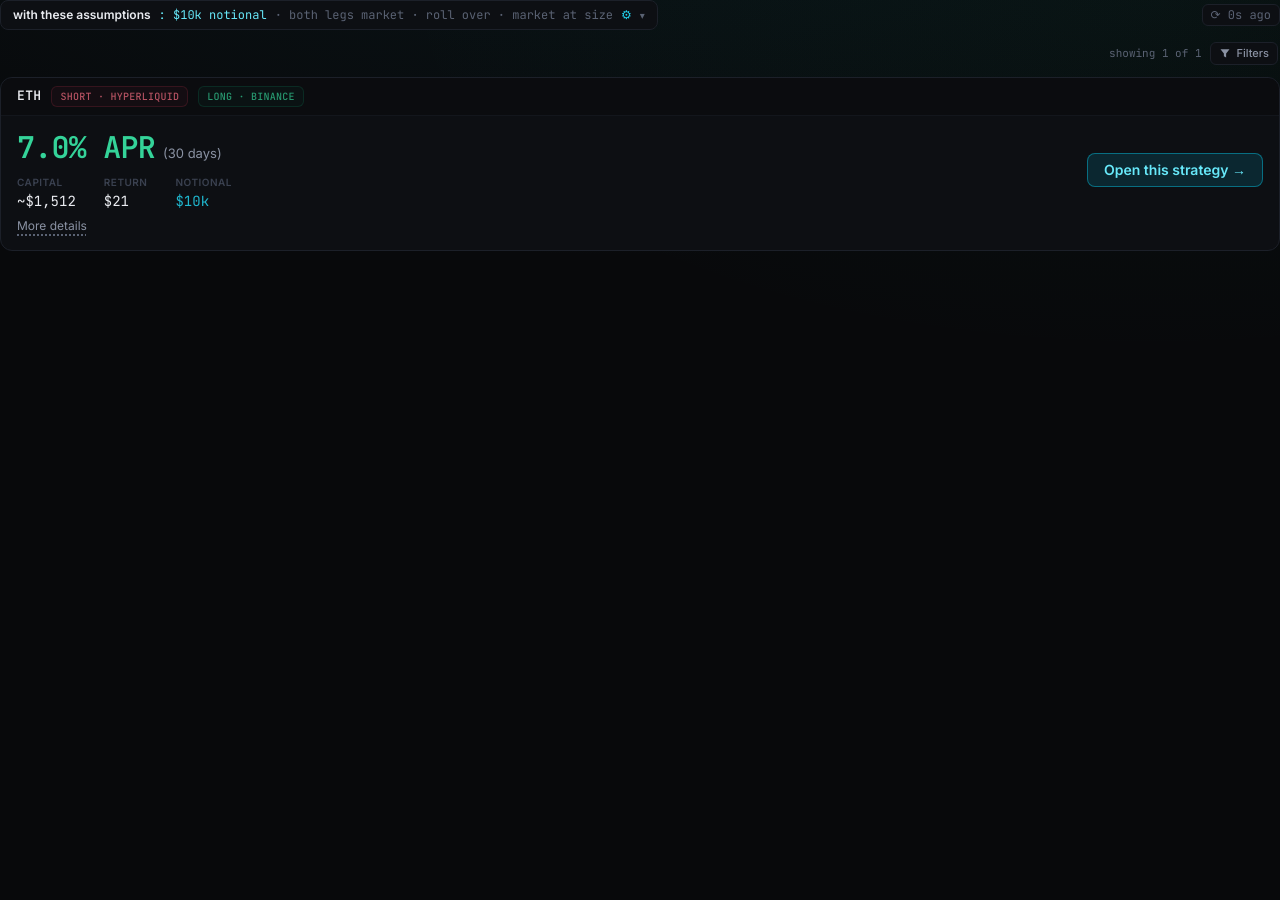
OpportunitiesPanel — collapse › drops the exit bars and notes the roll under "Roll over"
This screenshot has width=1280, height=900.
Expected: the number of buttons "More details" is 1, [17, 218, 87, 234]
Click the button "with these assumptions" at (329, 15), box [0, 0, 658, 30]
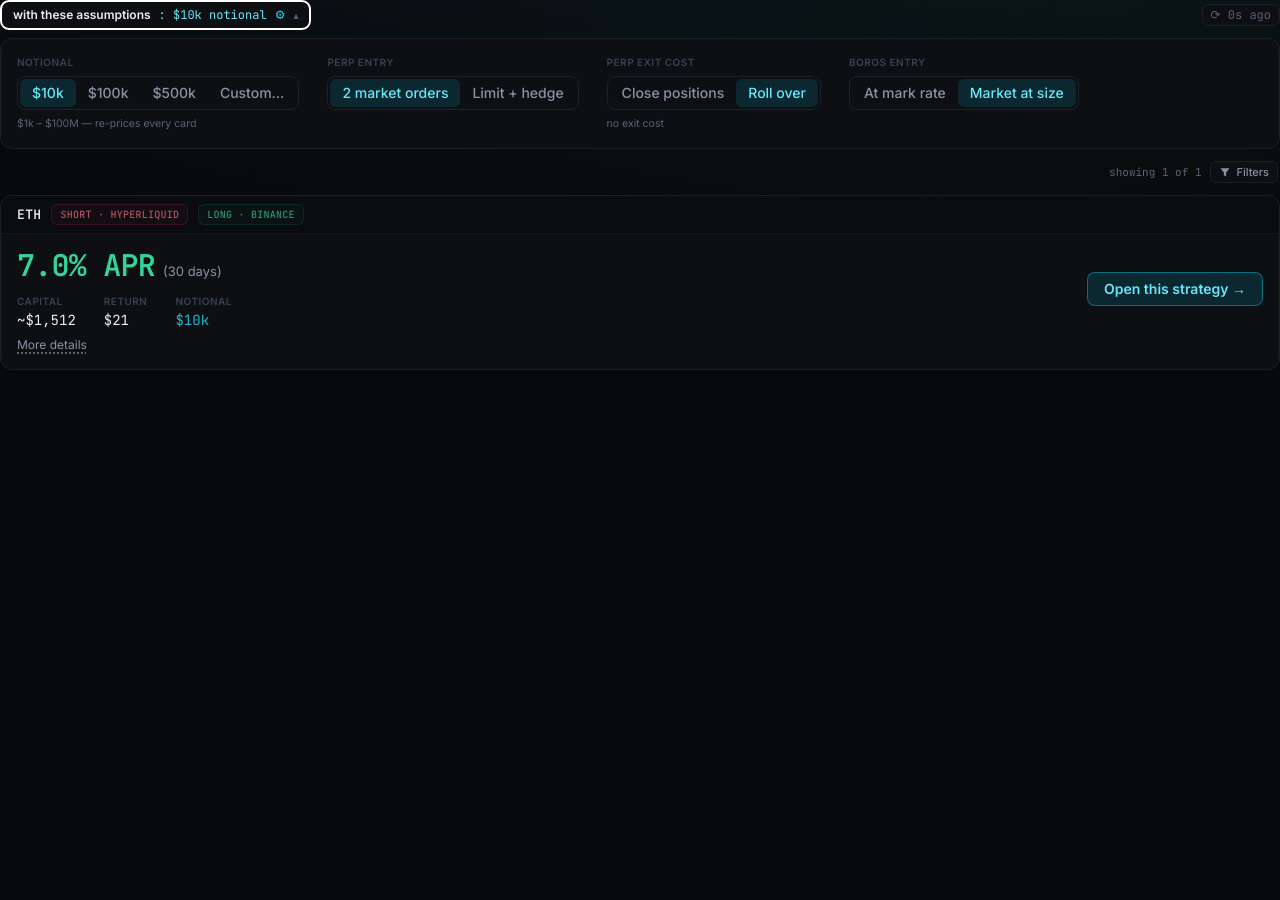
Click the radio button labelled "Roll over" at (777, 93), box [736, 79, 818, 107]
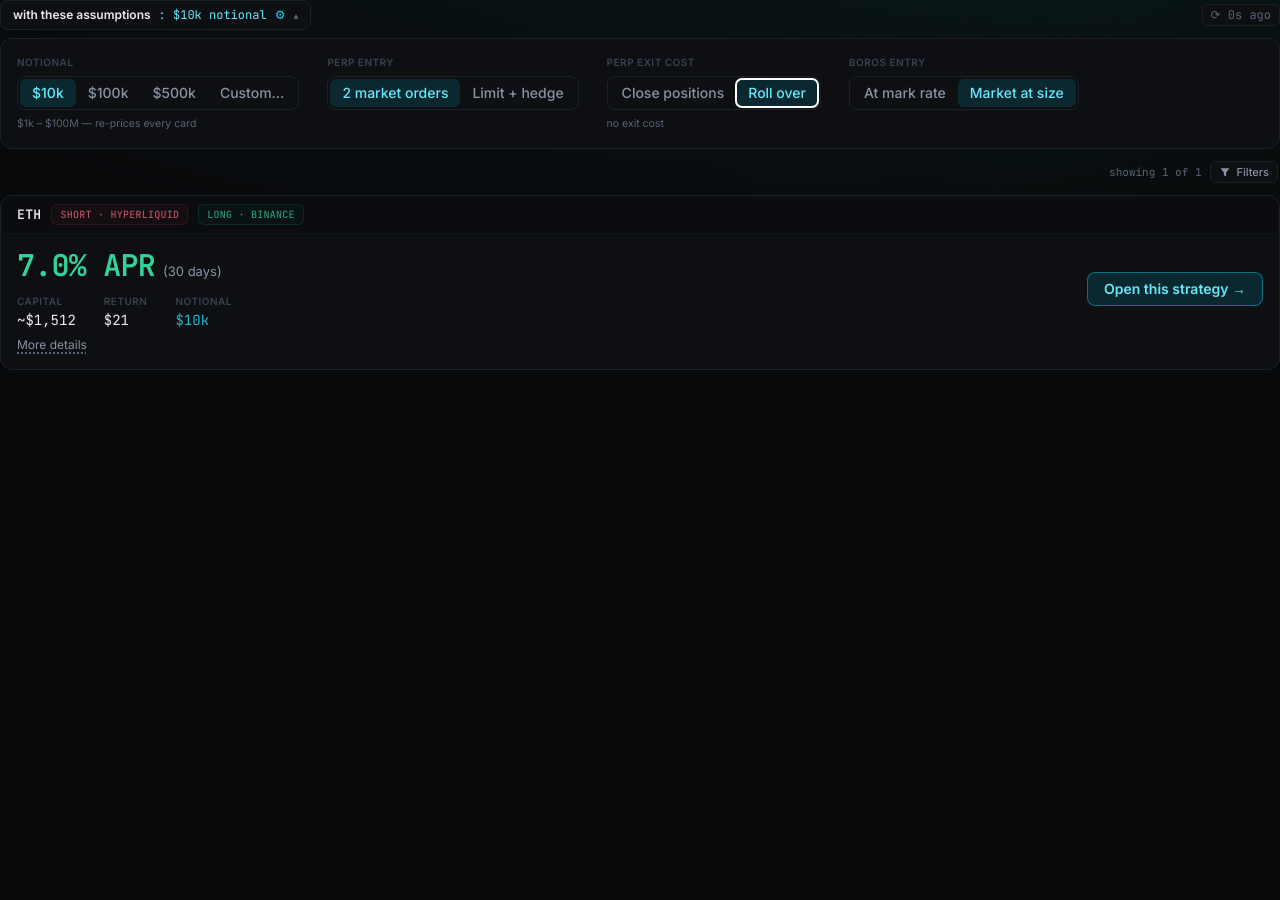
Click the button "More details" at (52, 345), box [17, 337, 87, 353]
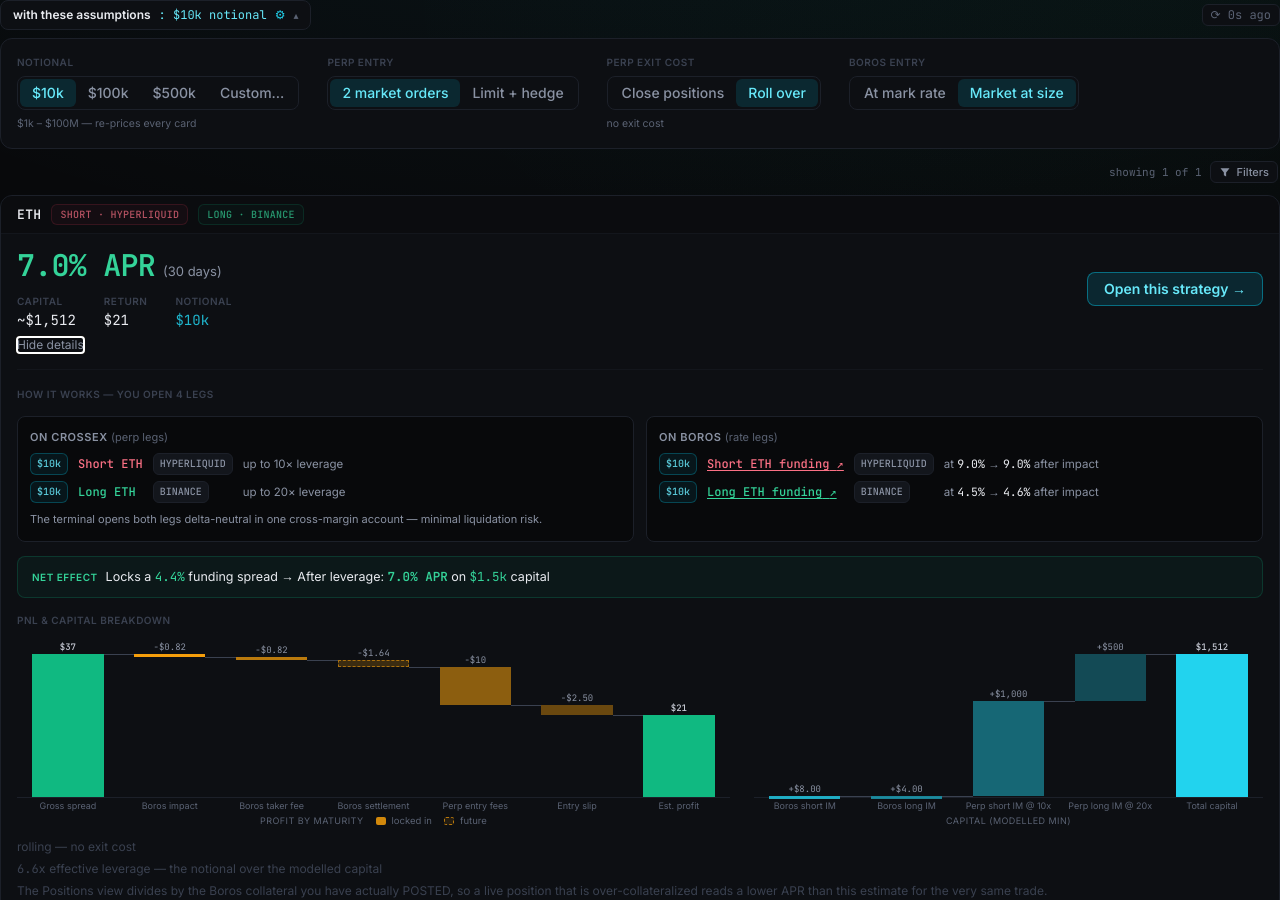
Now the text "rolling — no exit cost" is shown, box [17, 839, 136, 854]
